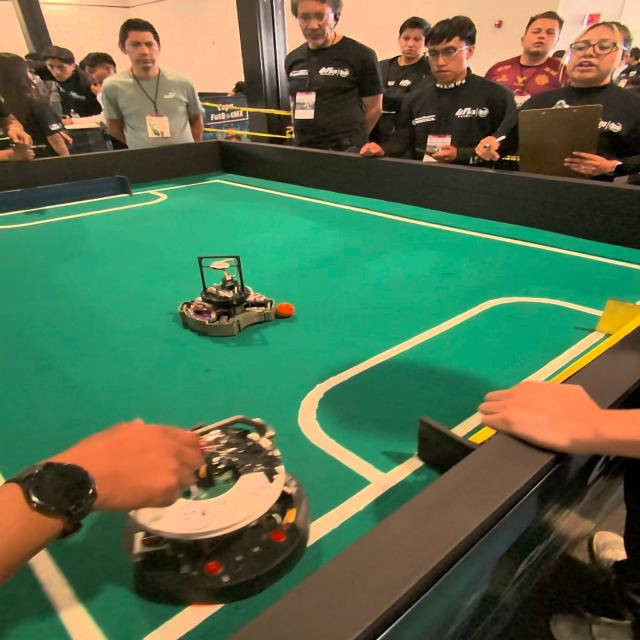Robot: (106, 401, 318, 598), (179, 256, 271, 340)
pelota: (278, 306, 293, 319)
